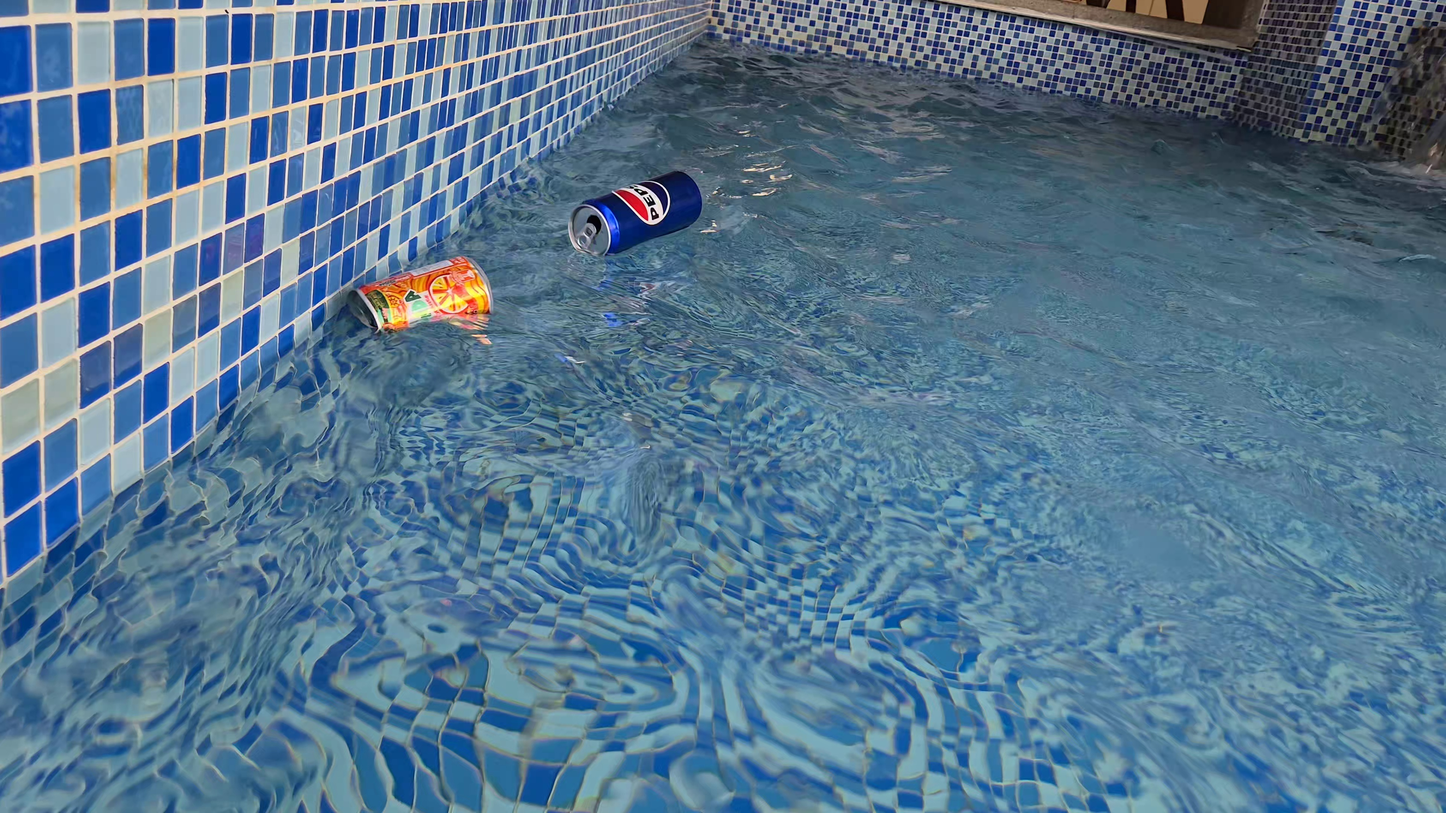debris: (340, 253, 501, 345), (554, 170, 709, 264)
